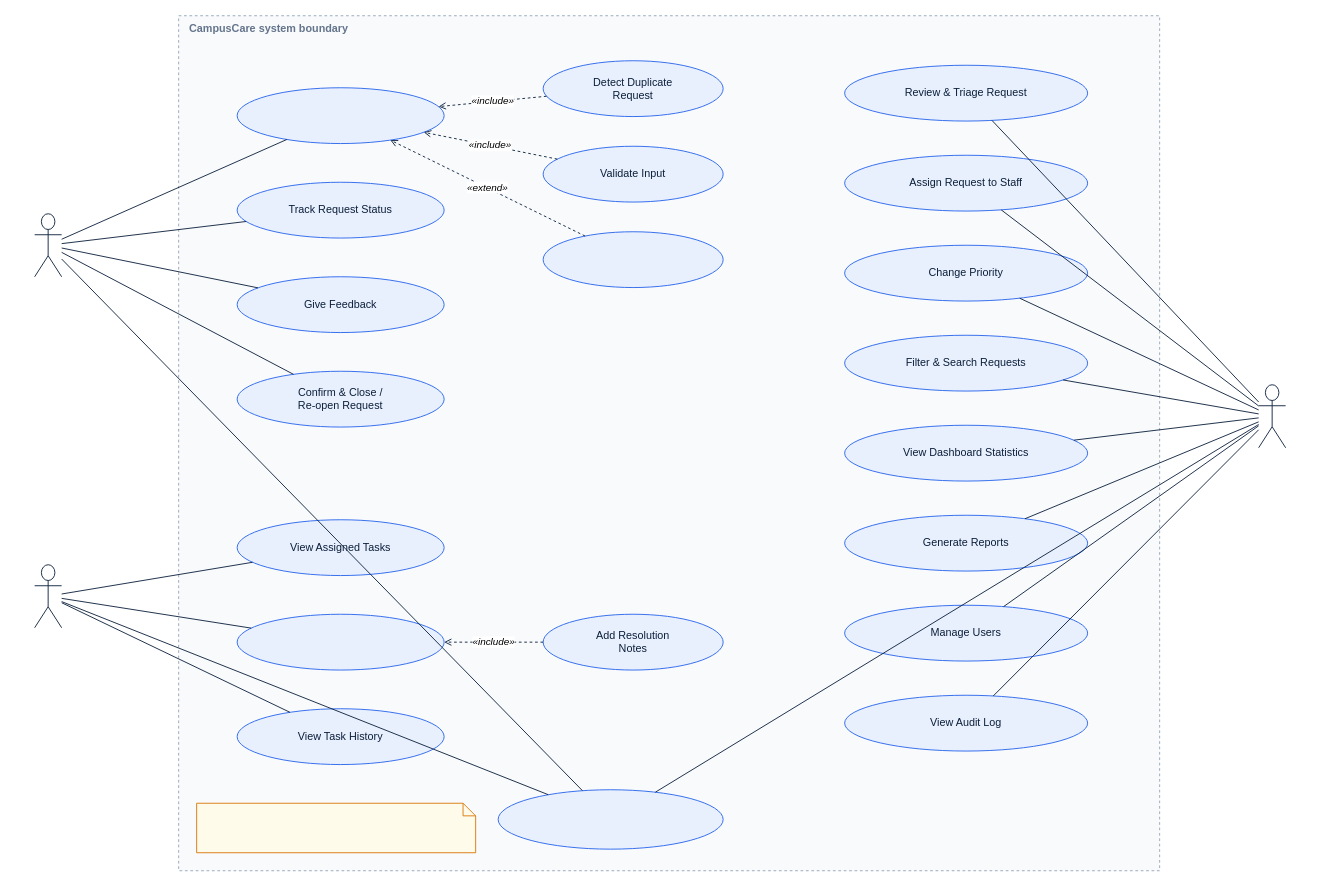
The diagram is 1323 pixels wide and 887 high, and some of its shapes have lost their labels. Each missing label, with the centre of its shape:
Administrator: the point at 1272,416
All roles must authenticate. Authorisation is enforced per use case (RBAC).: the point at 336,827
Log in / Log out (role-based access): the point at 610,819
Maintenance Staff: the point at 48,596
Student / Faculty: the point at 48,245
Submit Maintenance Request: the point at 340,115
Update Task Status: the point at 340,641
Upload Supporting Image: the point at 632,259
